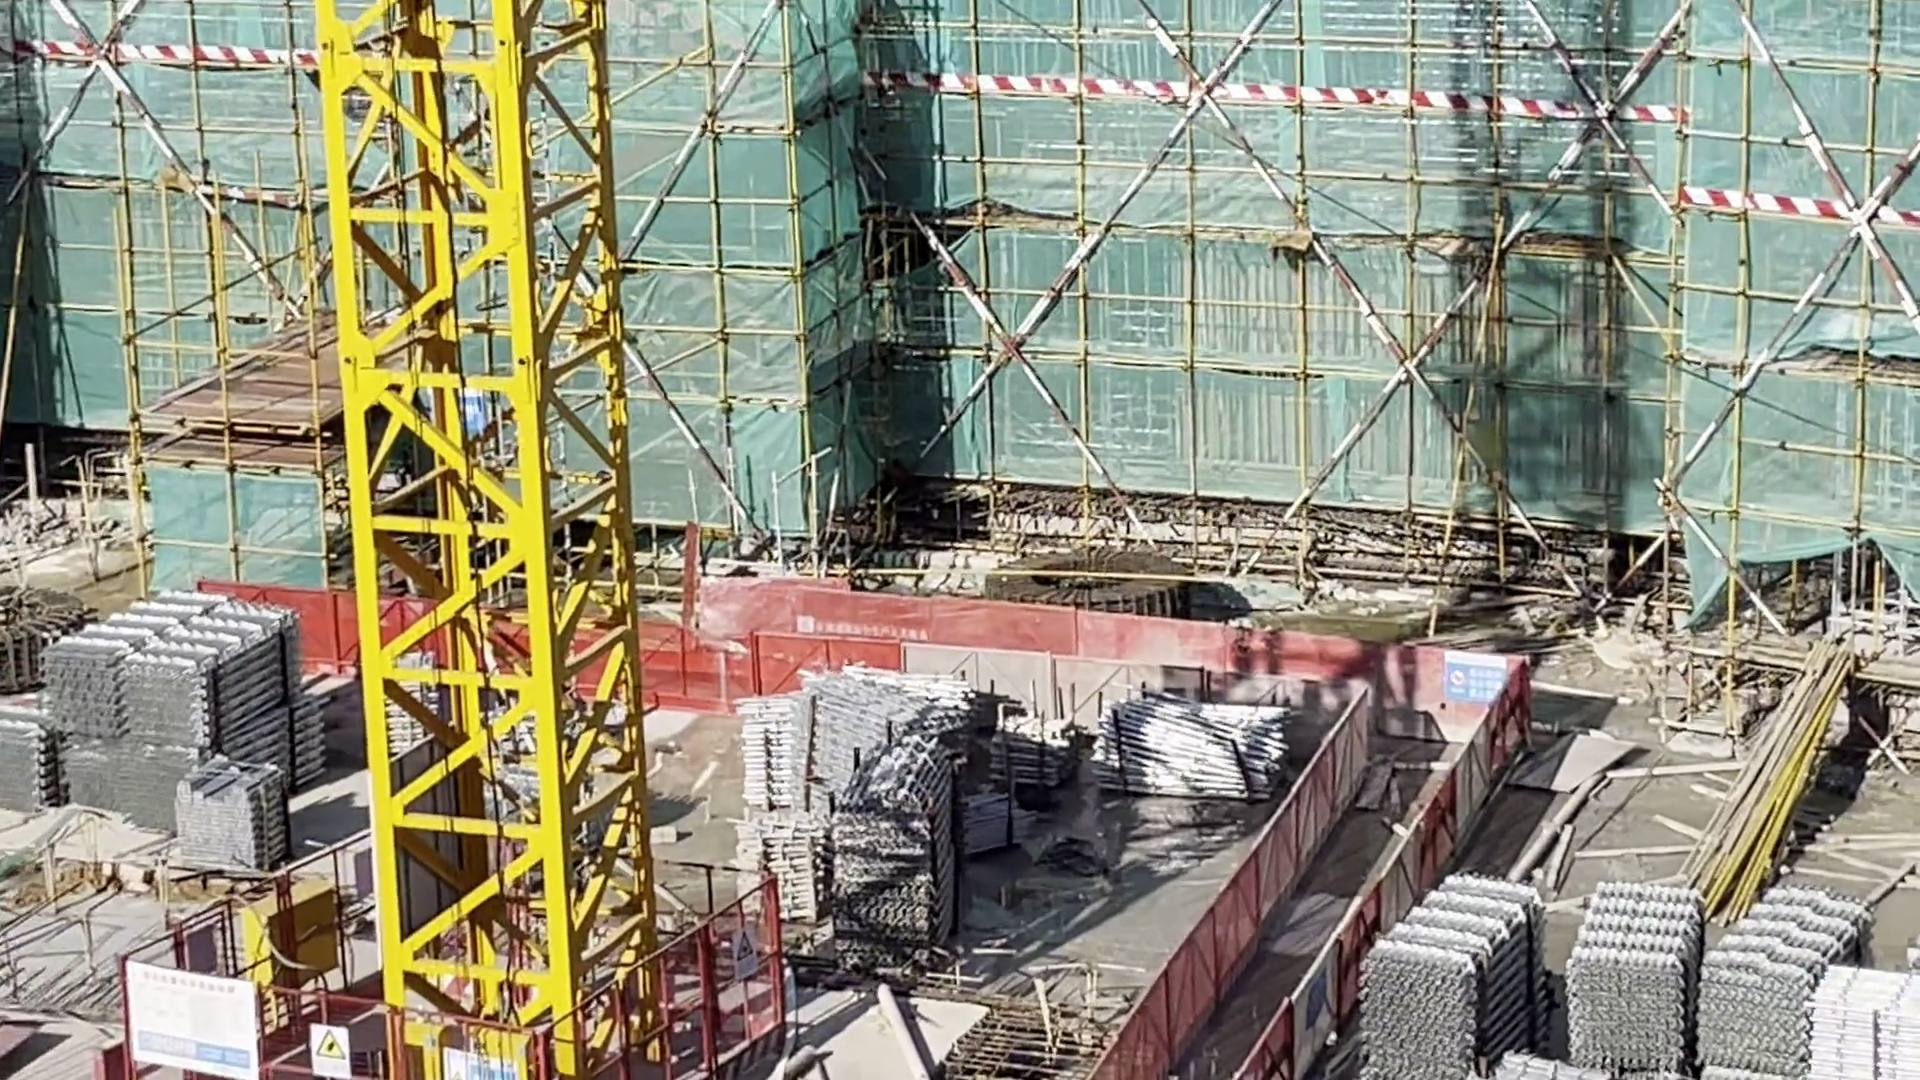ebox: (247, 891, 344, 997)
fence: (1101, 698, 1505, 1077), (651, 582, 1435, 708)
scaffold: (44, 600, 324, 823), (1573, 881, 1859, 1080), (1364, 876, 1542, 1080), (746, 688, 993, 799), (836, 757, 955, 961), (1105, 702, 1280, 803), (171, 765, 291, 873), (1822, 965, 1919, 1080), (738, 816, 843, 919), (988, 715, 1077, 777), (4, 692, 44, 815)
slogan: (1443, 650, 1506, 708), (309, 1025, 352, 1073), (731, 930, 758, 976)
